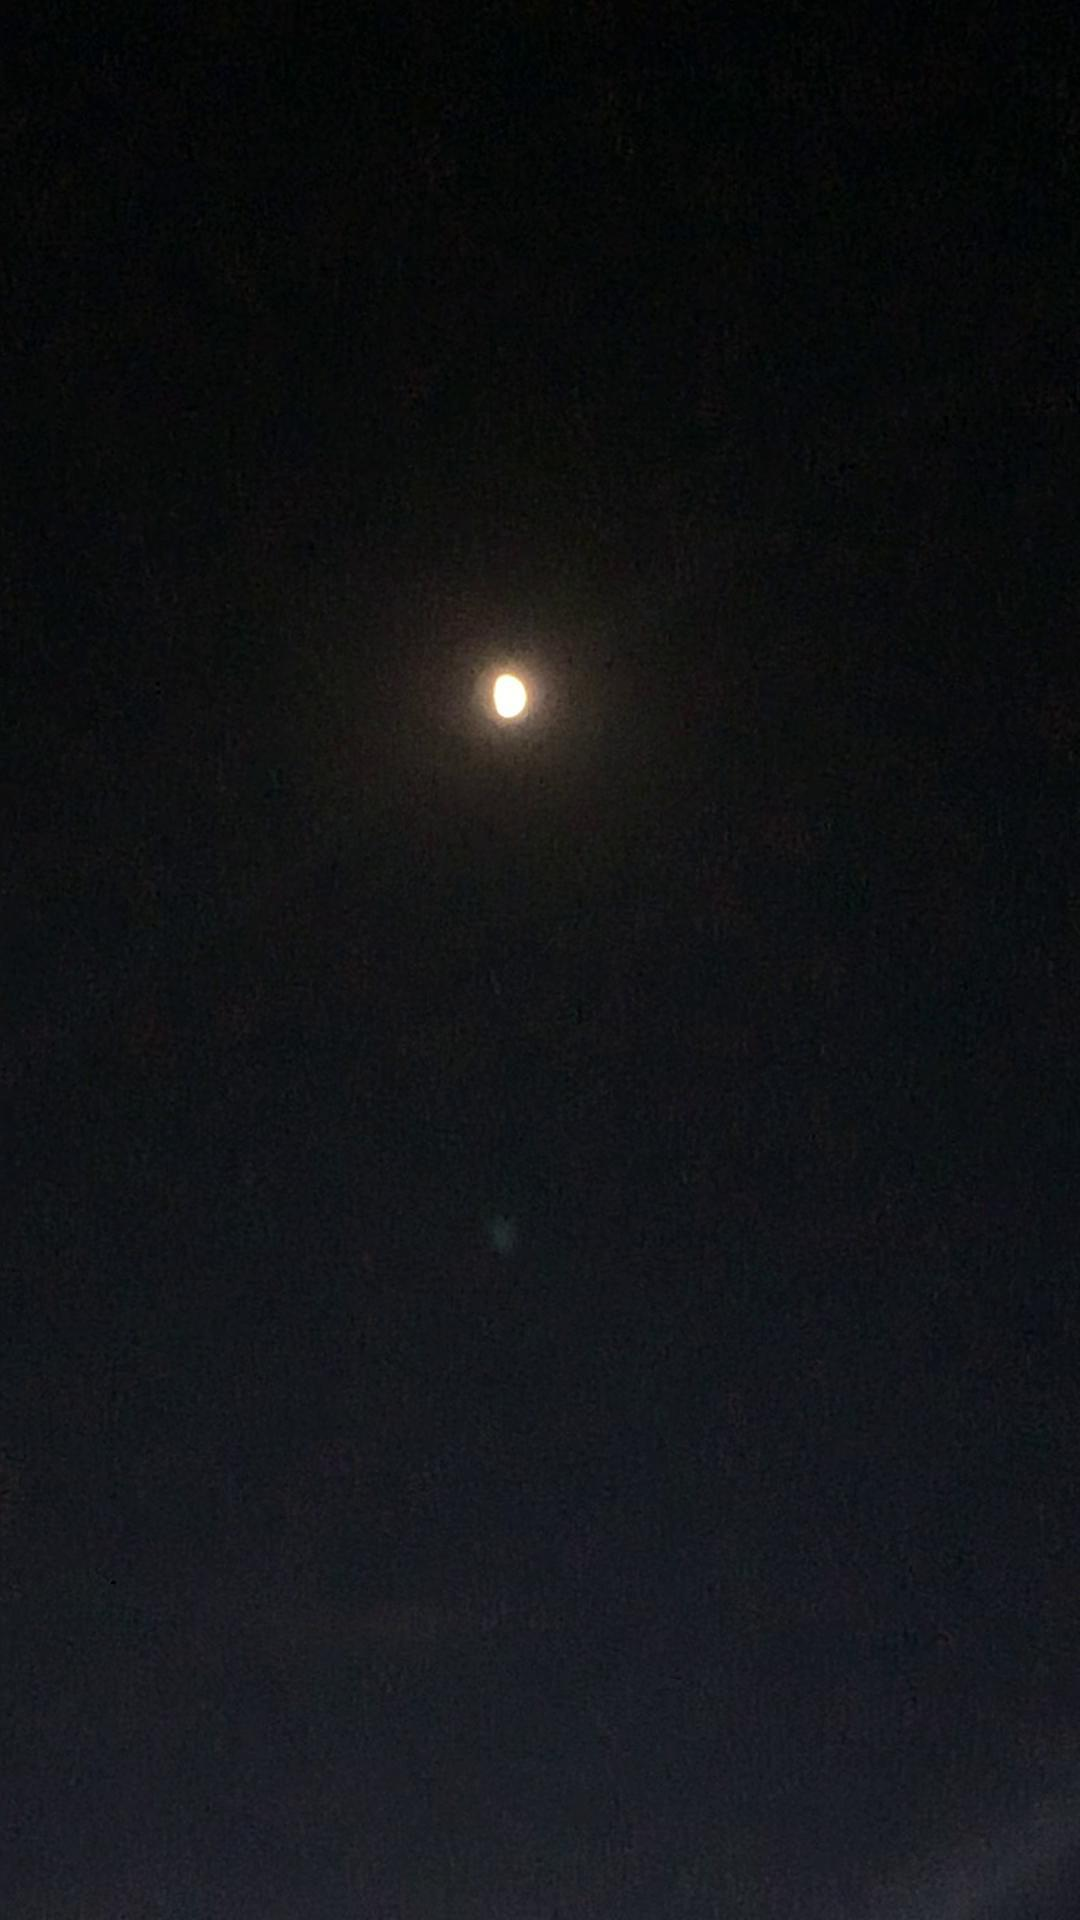moon: (471, 592, 564, 698)
